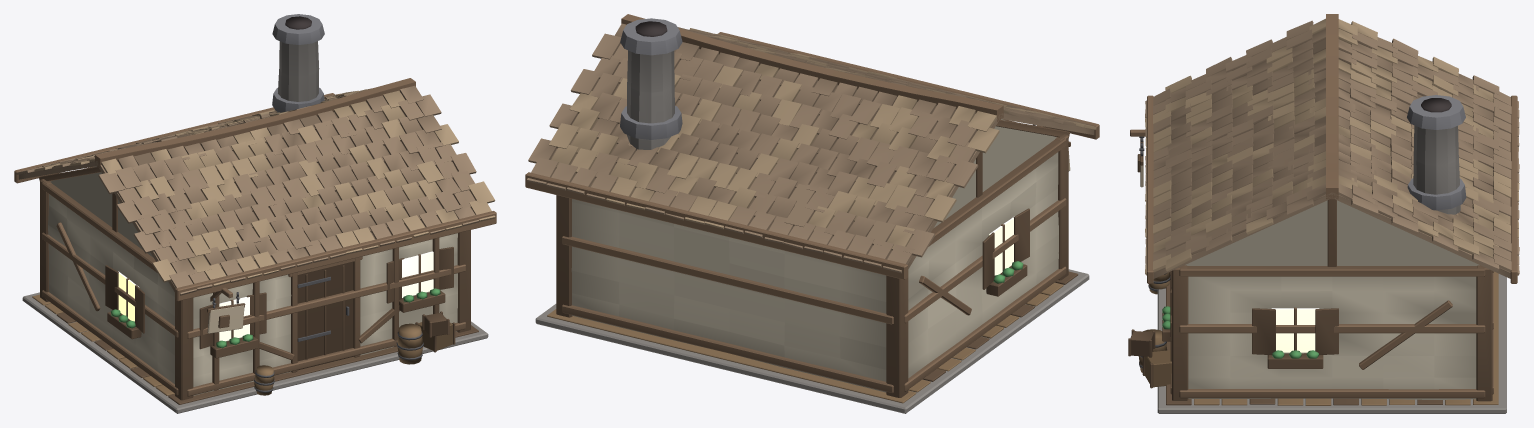
File: tavern.ec20e5df.glb
3 views of the same model, side by side, from view 1: azimuth 30°, elevation 25°; view 2: azimuth 150°, elevation 25°; view 3: azimuth 270°, elevation 25° (orthographic). The views are drawn at different scales.
Parts seen in each view (by area): view 1: tavern, door; view 2: tavern; view 3: tavern.
Boxes of the visible parts, x1,y1,x2,y2 form: tavern: (14,14,496,413); door: (297,262,353,370); tavern: (525,14,1099,413); tavern: (1128,14,1519,413).
Size of the model in its own units: 9.05 by 6.32 by 8.18.
